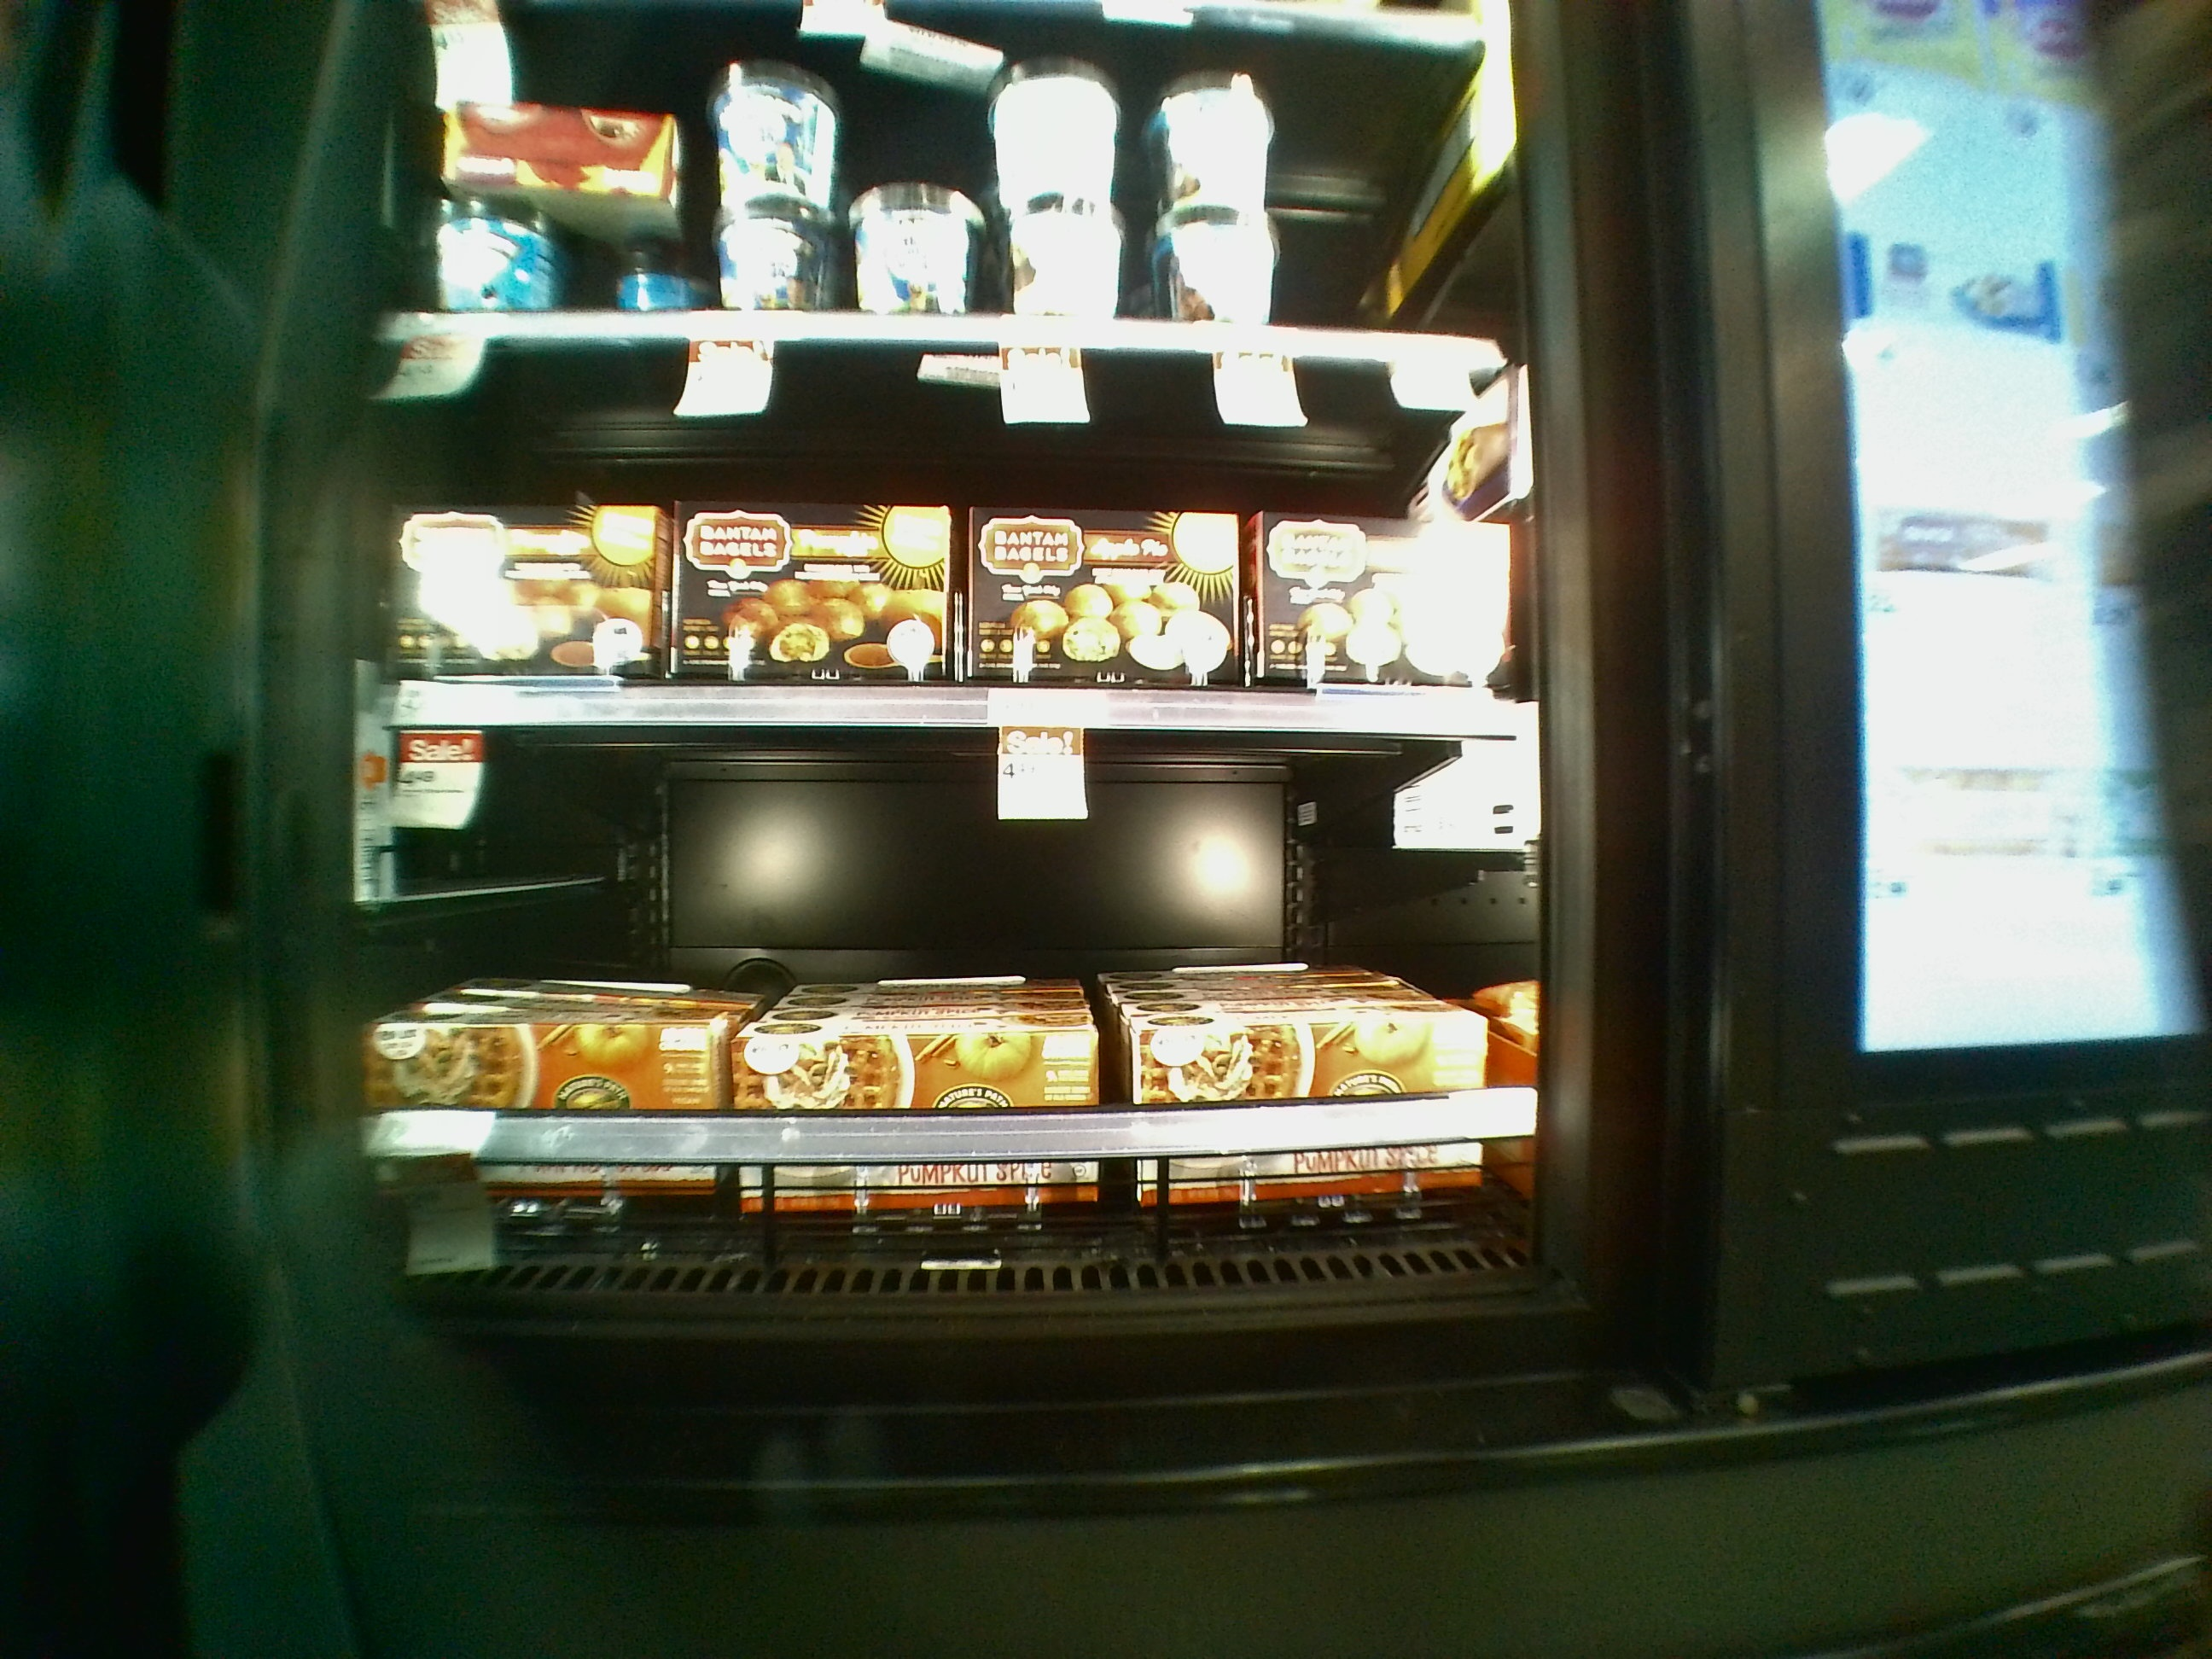shelf: (329, 734, 1540, 1326), (347, 338, 1545, 746)
